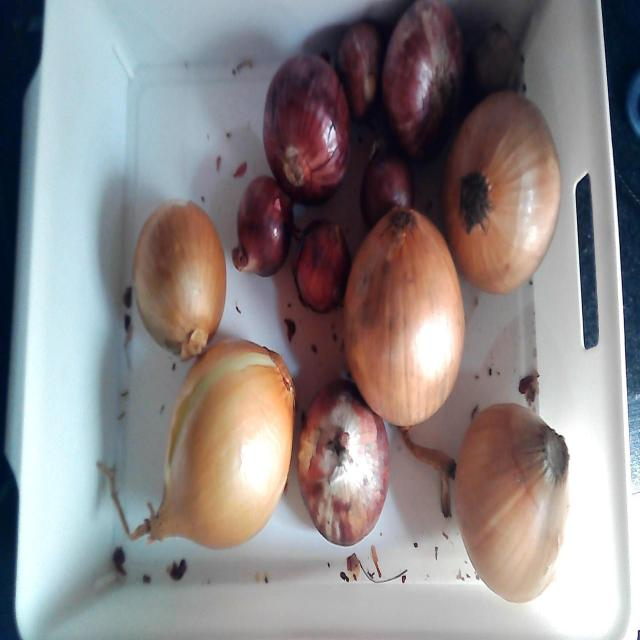Onion: (95, 339, 295, 549), (341, 208, 465, 426), (442, 89, 564, 296), (453, 399, 571, 604), (296, 376, 389, 547), (134, 200, 226, 367), (262, 44, 353, 204), (378, 0, 467, 152), (230, 172, 294, 277), (292, 215, 351, 312), (336, 18, 386, 122), (359, 148, 414, 229)
